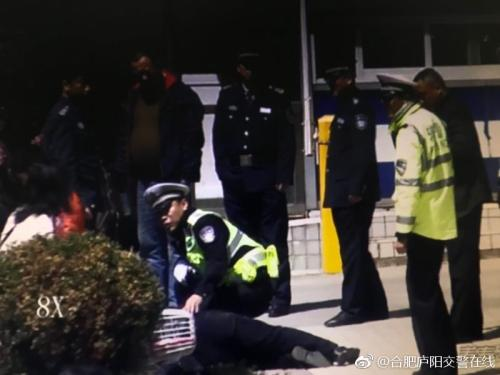fall: (119, 282, 369, 375)
